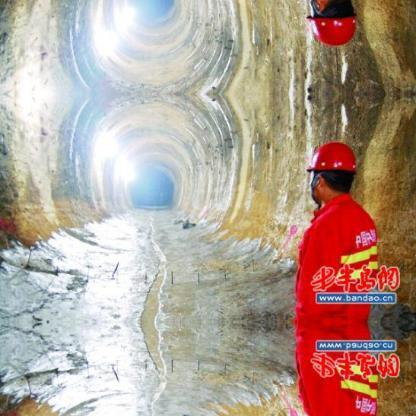helmet: (306, 142, 359, 176)
